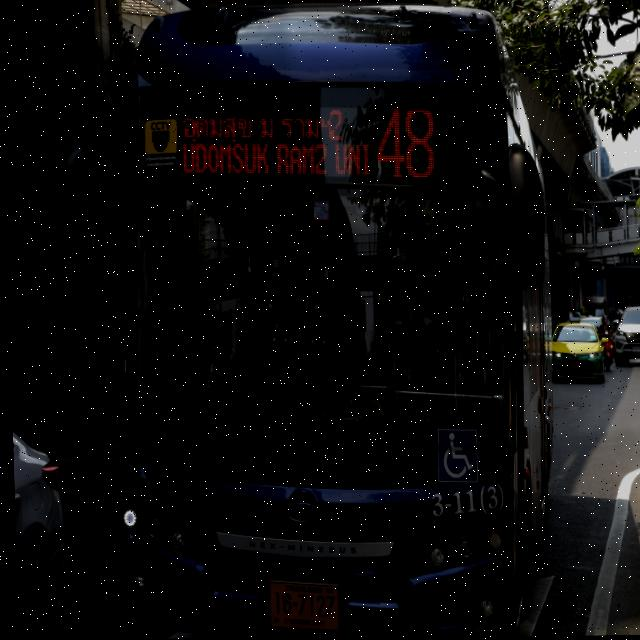Bus Line Number: (371, 100, 439, 184)
Bus Side Number: (422, 481, 502, 521)
Destination Sign: (176, 107, 371, 192)
TSB-Bus: (116, 4, 548, 638)
